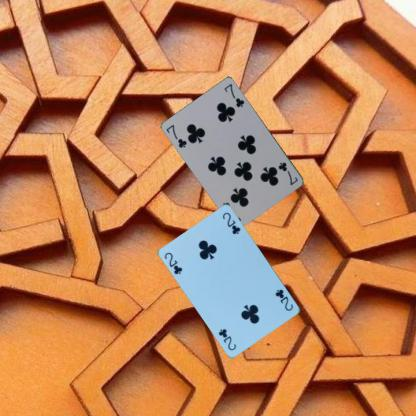2c: (162, 250, 184, 276), (272, 287, 294, 312)
7c: (164, 122, 188, 149), (276, 160, 299, 186)
